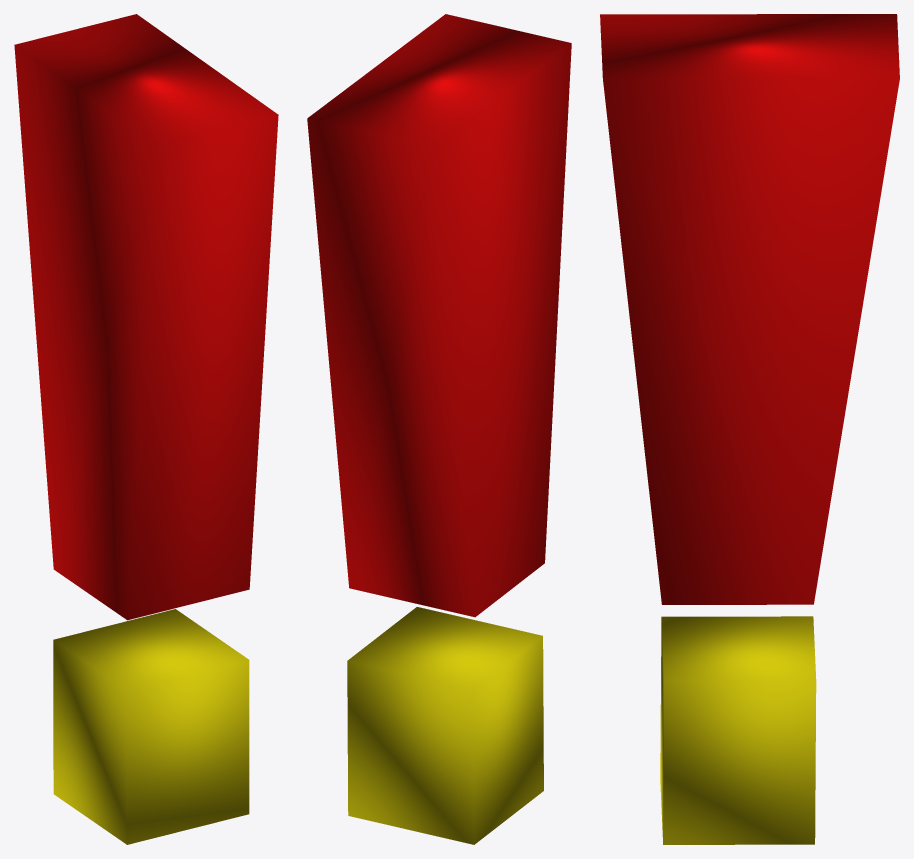
The model's file is exclamacao.fbx.
3 renders of one model, left to right at view 1: azimuth 30°, elevation 25°; view 2: azimuth 150°, elevation 25°; view 3: azimuth 270°, elevation 25°, orthographic. The views are drawn at different scales.
Parts seen in each view (by area): view 1: Cube, Cube_001; view 2: Cube, Cube_001; view 3: Cube, Cube_001.
Boxes of the visible parts, x1,y1,x2,y2 form: Cube: (14, 14, 278, 620); Cube_001: (53, 609, 249, 844); Cube: (307, 14, 571, 617); Cube_001: (347, 607, 543, 844); Cube: (600, 14, 899, 604); Cube_001: (660, 616, 816, 844).
Size of the model in its own units: 2.06 by 11.15 by 3.95.
